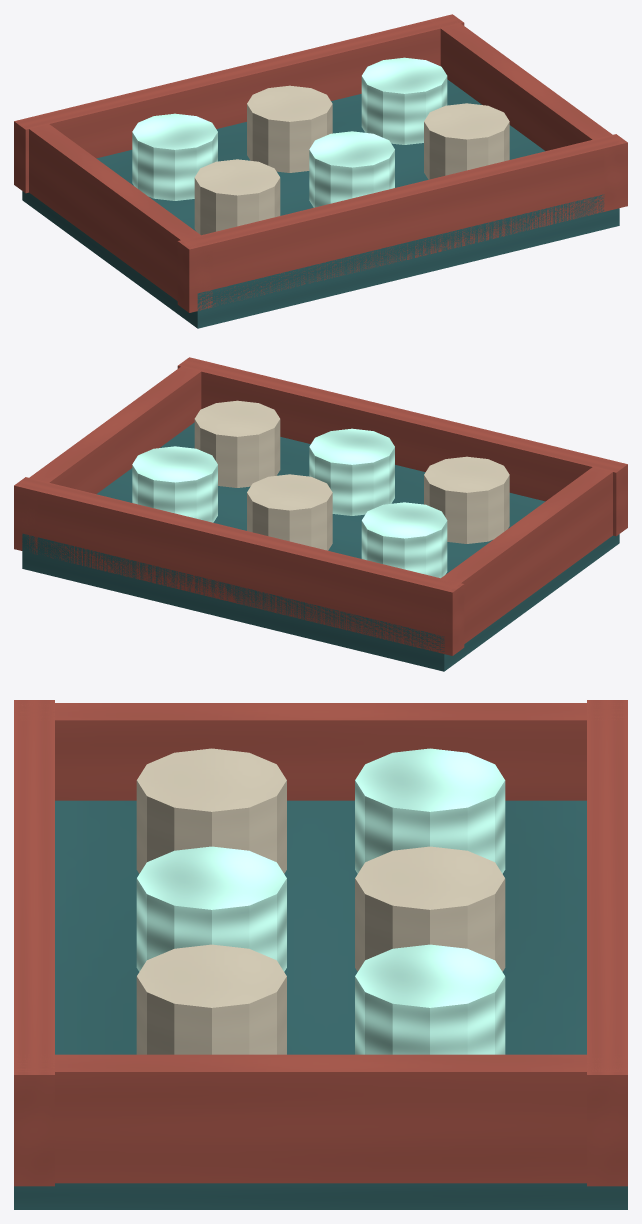
File: atlas100-s031-a03.glb
3 renders of one model, top to bottom at view 1: azimuth 30°, elevation 25°; view 2: azimuth 150°, elevation 25°; view 3: azimuth 270°, elevation 25°, orthographic. The views are drawn at different scales.
Parts seen in each view (by area): view 1: atlas100-s031-a03:part-002, atlas100-s031-a03:part-000, atlas100-s031-a03:part-001, atlas100-s031-a03:part-003, atlas100-s031-a03:part-004, atlas100-s031-a03:part-005, atlas100-s031-a03:part-007, atlas100-s031-a03:part-006, atlas100-s031-a03:part-008, atlas100-s031-a03:part-009, atlas100-s031-a03:part-010; view 2: atlas100-s031-a03:part-001, atlas100-s031-a03:part-000, atlas100-s031-a03:part-002, atlas100-s031-a03:part-003, atlas100-s031-a03:part-004, atlas100-s031-a03:part-008, atlas100-s031-a03:part-010, atlas100-s031-a03:part-009, atlas100-s031-a03:part-005, atlas100-s031-a03:part-006, atlas100-s031-a03:part-007; view 3: atlas100-s031-a03:part-000, atlas100-s031-a03:part-004, atlas100-s031-a03:part-003, atlas100-s031-a03:part-001, atlas100-s031-a03:part-002, atlas100-s031-a03:part-007, atlas100-s031-a03:part-010, atlas100-s031-a03:part-006, atlas100-s031-a03:part-009, atlas100-s031-a03:part-005, atlas100-s031-a03:part-008.
Part boxes in pixels (left/top/right/bottom): atlas100-s031-a03:part-002: left=177, top=134, right=627, bottom=312; atlas100-s031-a03:part-000: left=22, top=79, right=619, bottom=328; atlas100-s031-a03:part-001: left=14, top=14, right=464, bottom=193; atlas100-s031-a03:part-003: left=29, top=124, right=212, bottom=311; atlas100-s031-a03:part-004: left=430, top=15, right=624, bottom=211; atlas100-s031-a03:part-005: left=132, top=113, right=217, bottom=200; atlas100-s031-a03:part-007: left=361, top=57, right=447, bottom=144; atlas100-s031-a03:part-006: left=247, top=85, right=332, bottom=172; atlas100-s031-a03:part-008: left=194, top=159, right=280, bottom=235; atlas100-s031-a03:part-009: left=309, top=131, right=394, bottom=207; atlas100-s031-a03:part-010: left=424, top=103, right=509, bottom=179; atlas100-s031-a03:part-001: left=14, top=477, right=464, bottom=655; atlas100-s031-a03:part-000: left=22, top=422, right=619, bottom=671; atlas100-s031-a03:part-002: left=177, top=357, right=627, bottom=536; atlas100-s031-a03:part-003: left=429, top=467, right=612, bottom=654; atlas100-s031-a03:part-004: left=17, top=358, right=211, bottom=554; atlas100-s031-a03:part-008: left=424, top=456, right=509, bottom=543; atlas100-s031-a03:part-010: left=194, top=400, right=280, bottom=487; atlas100-s031-a03:part-009: left=309, top=428, right=394, bottom=515; atlas100-s031-a03:part-005: left=361, top=502, right=447, bottom=578; atlas100-s031-a03:part-006: left=247, top=474, right=332, bottom=550; atlas100-s031-a03:part-007: left=132, top=446, right=217, bottom=522; atlas100-s031-a03:part-000: left=14, top=800, right=627, bottom=1209; atlas100-s031-a03:part-004: left=14, top=1054, right=627, bottom=1183; atlas100-s031-a03:part-003: left=14, top=703, right=627, bottom=800; atlas100-s031-a03:part-001: left=587, top=700, right=627, bottom=1186; atlas100-s031-a03:part-002: left=14, top=700, right=54, bottom=1186; atlas100-s031-a03:part-007: left=355, top=944, right=505, bottom=1054; atlas100-s031-a03:part-010: left=136, top=944, right=286, bottom=1054; atlas100-s031-a03:part-006: left=355, top=846, right=505, bottom=971; atlas100-s031-a03:part-009: left=136, top=846, right=286, bottom=971; atlas100-s031-a03:part-005: left=355, top=748, right=505, bottom=873; atlas100-s031-a03:part-008: left=136, top=748, right=286, bottom=873.
Size of the model in its own units: 1.36 by 0.2563 by 0.9414.
4 materials, 4 textured.
